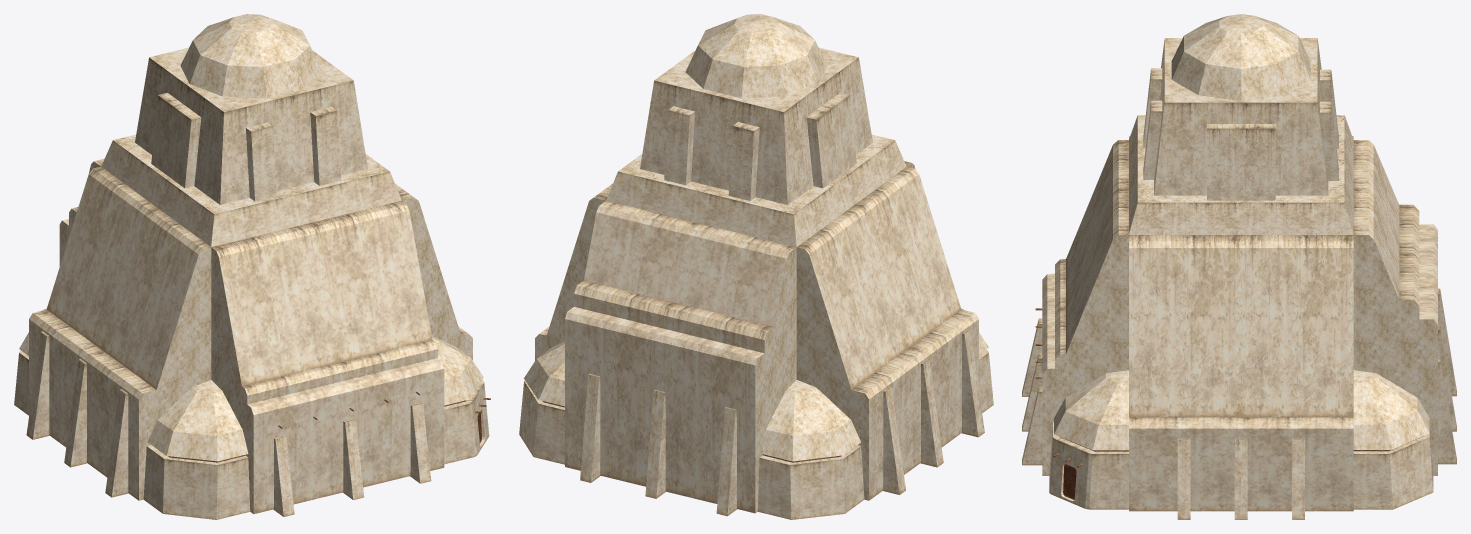
Rendered from thm_tato_imprv_building_s04_l1.fbx.
The picture shows the model from 3 angles, left to right: view 1: azimuth 30°, elevation 25°; view 2: azimuth 150°, elevation 25°; view 3: azimuth 270°, elevation 25°; orthographic projection. The views are drawn at different scales.
Visible parts, largest first — view 1: mesh_node; view 2: mesh_node; view 3: mesh_node.
Boxes of the visible parts, x1,y1,x2,y2 form: mesh_node: [14, 14, 490, 519]; mesh_node: [519, 14, 993, 519]; mesh_node: [1022, 14, 1456, 519].
Size of the model in its own units: 38 by 39.57 by 38.23.
